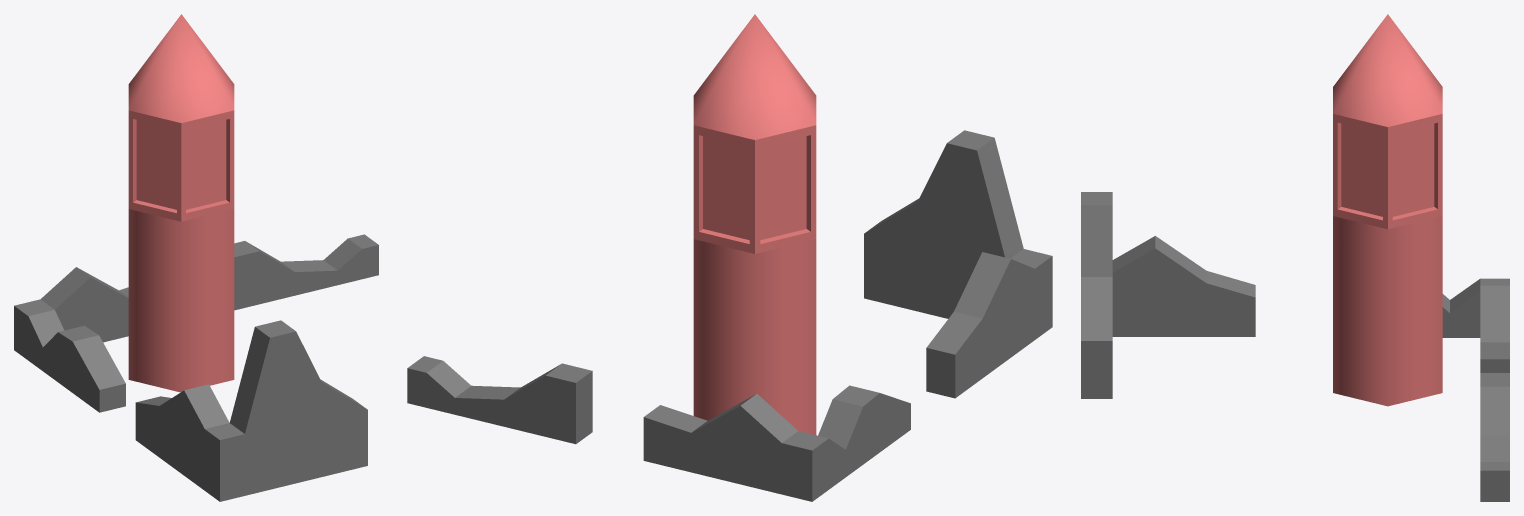
The model's file is SM_Ruins_00 (1).fbx.
3 views of the same model, side by side, from view 1: azimuth 30°, elevation 25°; view 2: azimuth 150°, elevation 25°; view 3: azimuth 270°, elevation 25° (orthographic). The views are drawn at different scales.
Parts seen in each view (by area): view 1: SM_Ruins_00, SM_Ruins_01; view 2: SM_Ruins_00, SM_Ruins_01; view 3: SM_Ruins_01, SM_Ruins_00.
Boxes of the visible parts, <box> form: SM_Ruins_00: <box>14,234,378,501</box>; SM_Ruins_01: <box>128,14,234,392</box>; SM_Ruins_00: <box>407,130,1052,501</box>; SM_Ruins_01: <box>693,14,816,435</box>; SM_Ruins_01: <box>1333,14,1442,406</box>; SM_Ruins_00: <box>1081,192,1509,501</box>.
Size of the model in its own units: 380 by 364 by 387.
